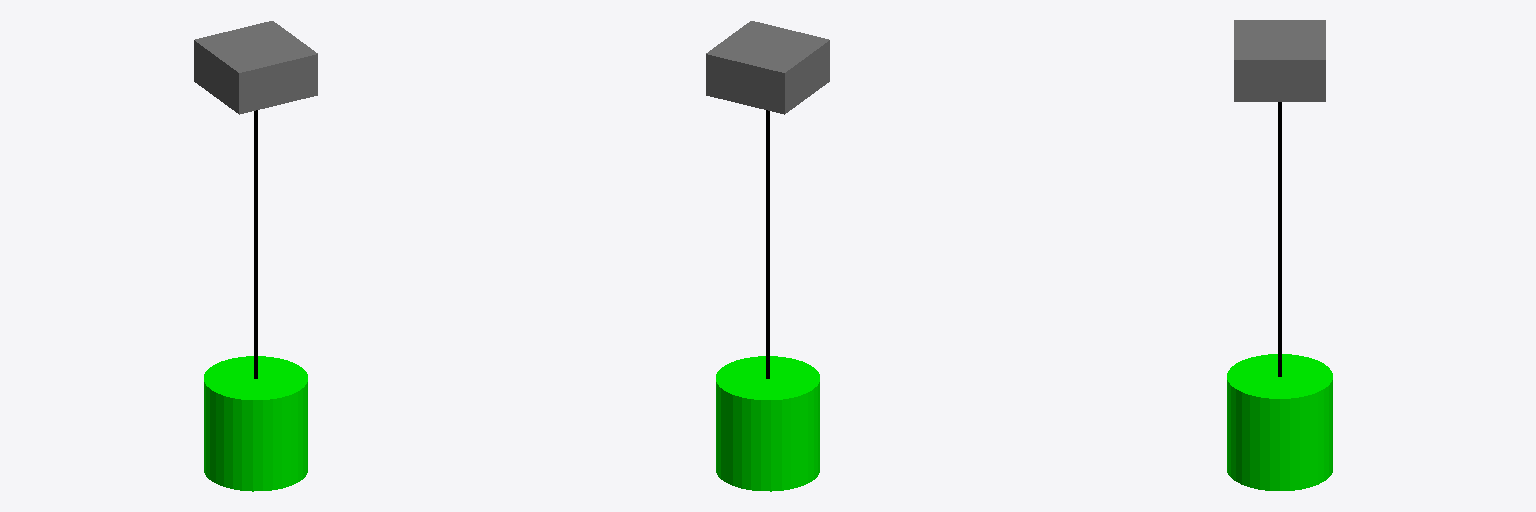
robot.urdf — hanging_object:
<?xml version="1.0"?>
<robot name="hanging_object">

    <!-- Fixed base at the ceiling -->
    <link name="base_3">
        <visual>
            <origin xyz="0 0 0" rpy="0 0 0"/>
            <geometry>
                <box size="0.2 0.2 0.1"/>
            </geometry>
            <material name="grey">
                <color rgba="0.5 0.5 0.5 1"/>
            </material>
        </visual>
        <collision>
            <origin xyz="0 0 0" rpy="0 0 0"/>
            <geometry>
                <box size="0.2 0.2 0.1"/>
            </geometry>
        </collision>
        <inertial>
            <mass value="0"/>
            <inertia ixx="0" iyy="0" izz="0" ixy="0" ixz="0" iyz="0"/>
        </inertial>
    </link>

    <!-- Intermediate link for first rotation (X-axis) -->
    <link name="x_rotation_link_3">
        <inertial>
            <mass value="0"/>
            <inertia ixx="0" iyy="0" izz="0" ixy="0" ixz="0" iyz="0"/>
        </inertial>
    </link>

    <!-- Intermediate link for second rotation (Y-axis) -->
    <link name="y_rotation_link_3">
        <inertial>
            <mass value="0"/>
            <inertia ixx="0" iyy="0" izz="0" ixy="0" ixz="0" iyz="0"/>
        </inertial>
    </link>

    <!-- Hanging link with smaller intersection -->
    <link name="hanging_link_3">
        <visual>
            <origin xyz="0 0 -0.375" rpy="0 0 0"/>
            <geometry>
                <cylinder radius="0.005" length="0.75"/>
            </geometry>
            <material name="black">
                <color rgba="0 0 0 1"/>
            </material>
        </visual>
        <collision>
            <origin xyz="0 0 -0.375" rpy="0 0 0"/>
            <geometry>
                <cylinder radius="0.005" length="0.75"/>
            </geometry>
        </collision>
        <inertial>
            <mass value="0"/>
            <origin xyz="0 0 0"/>
            <inertia ixx="0" iyy="0" izz="0" ixy="0" ixz="0" iyz="0"/>
        </inertial>
    </link>

    <!-- Bucket link -->
    <link name="bucket_3">
        <visual>
            <origin xyz="0 0 -0.11" rpy="0 0 0"/>
            <geometry>
                <cylinder radius="0.115" length="0.22"/>
            </geometry>
            <material name="green">
                <color rgba="0.0 1.0 0.0 1"/>
            </material>
        </visual>
        <collision>
            <origin xyz="0 0 -0.11" rpy="0 0 0"/>
            <geometry>
                <cylinder radius="0.115" length="0.22"/>
            </geometry>
        </collision>
        <inertial>
            <mass value="5.6"/>
            <origin xyz="0 0 -0.073"/>
            <inertia ixx="0.04" iyy="0.04" izz="0.04" ixy="0" ixz="0" iyz="0"/>
        </inertial>
    </link>

    <!-- Revolute joint for X-axis rotation -->
    <joint name="x_rotation_joint_3" type="revolute">
        <parent link="base_3"/>
        <child link="x_rotation_link_3"/>
        <origin xyz="0 0 0"/>
        <axis xyz="1 0 0"/>
        <limit lower="-3.14" upper="3.14" effort="10" velocity="1"/>
        <dynamics damping="0.0" friction="0.0"/>
    </joint>

    <!-- Revolute joint for Y-axis rotation -->
    <joint name="y_rotation_joint_3" type="revolute">
        <parent link="x_rotation_link_3"/>
        <child link="y_rotation_link_3"/>
        <origin xyz="0 0 0"/>
        <axis xyz="0 1 0"/>
        <limit lower="-3.14" upper="3.14" effort="10" velocity="1"/>
        <dynamics damping="0.0" friction="0.0"/>
    </joint>

    <!-- Revolute joint for Z-axis rotation -->
    <joint name="z_rotation_joint_3" type="revolute">
        <parent link="y_rotation_link_3"/>
        <child link="hanging_link_3"/>
        <origin xyz="0 0 0"/>
        <axis xyz="0 0 1"/>
        <limit lower="-3.14" upper="3.14" effort="10" velocity="1"/>
        <dynamics damping="0.0" friction="0.0"/>
    </joint>

    <!-- Fixed joint for bucket -->
    <joint name="bucket_joint_3" type="fixed">
        <parent link="hanging_link_3"/>
        <child link="bucket_3"/>
        <origin xyz="0 0 -0.75"/>
    </joint>

  <link name="world">
    <inertial>
      <mass value="0"/>
      <inertia ixx="0.0" ixy="0.0" ixz="0.0" iyy="0.0" iyz="0.0" izz="0.0"/>
    </inertial>
  </link>
  <joint name="fixed_joint_3" type="fixed">
    <parent link="world"/>
    <child link="base_3"/>
  </joint>
</robot>

--- Facts derived from the render (not from the file) ---
Views: 3 orthographic renders of the robot side by side, from view 1: azimuth 30°, elevation 25°; view 2: azimuth 150°, elevation 25°; view 3: azimuth 270°, elevation 25°.
Robot: hanging_object — 6 links, 5 joints (3 revolute, 2 fixed); root link world; default pose: all joints at 0.
Links seen in each view (by area): view 1: bucket_3, base_3, hanging_link_3; view 2: bucket_3, base_3, hanging_link_3; view 3: bucket_3, base_3, hanging_link_3.
Boxes of the visible links, x1,y1,x2,y2 form: bucket_3: [204, 356, 307, 491]; base_3: [194, 21, 317, 114]; hanging_link_3: [254, 110, 257, 378]; bucket_3: [716, 356, 819, 491]; base_3: [706, 21, 829, 114]; hanging_link_3: [766, 110, 769, 378]; bucket_3: [1227, 354, 1332, 490]; base_3: [1234, 20, 1325, 101]; hanging_link_3: [1278, 102, 1281, 376].
Size in the robot's own frame: 0.23 by 0.23 by 1.02 metres.
Geometry: primitives only (box / cylinder / sphere), no mesh files.